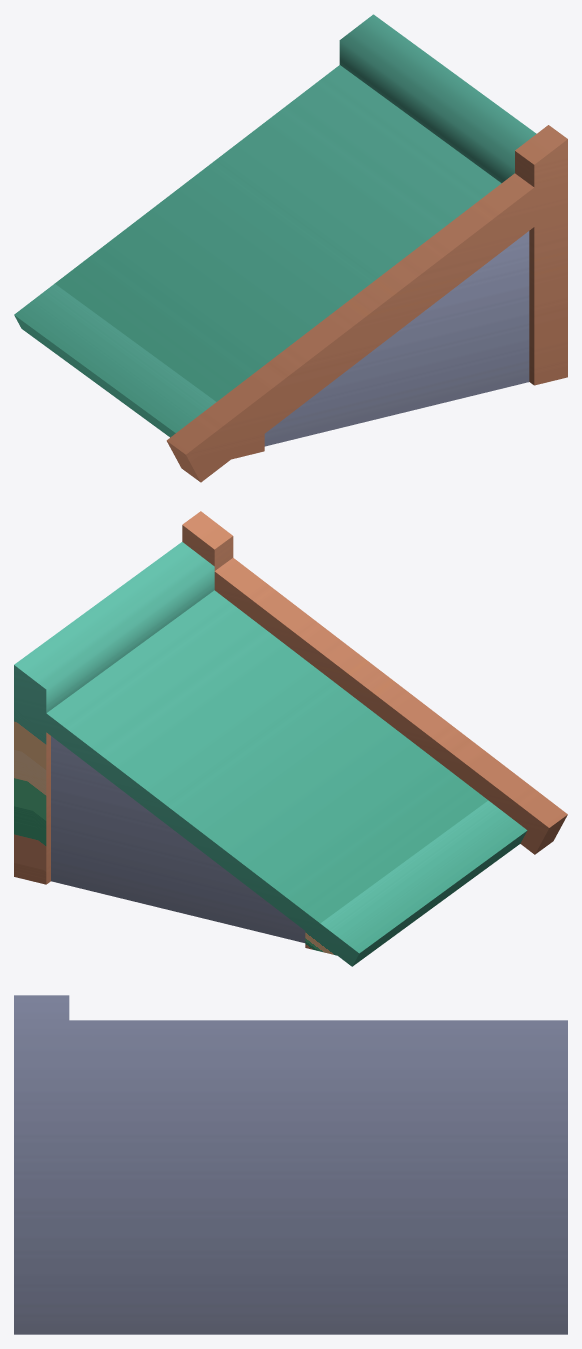
Rendered from roof-right.fbx.
The picture shows the model from 3 angles, top to bottom: view 1: azimuth 30°, elevation 25°; view 2: azimuth 150°, elevation 25°; view 3: azimuth 270°, elevation 25°; orthographic projection. The views are drawn at different scales.
Parts seen in each view (by area): view 1: roof-right; view 2: roof-right; view 3: roof-right.
Boxes of the visible parts, left/top/right/bottom form: roof-right: left=14, top=14, right=567, bottom=482; roof-right: left=14, top=511, right=567, bottom=966; roof-right: left=14, top=995, right=567, bottom=1334.
Bounding box in the file's own units: 113 × 72.06 × 100.
1 material, 1 textured.
